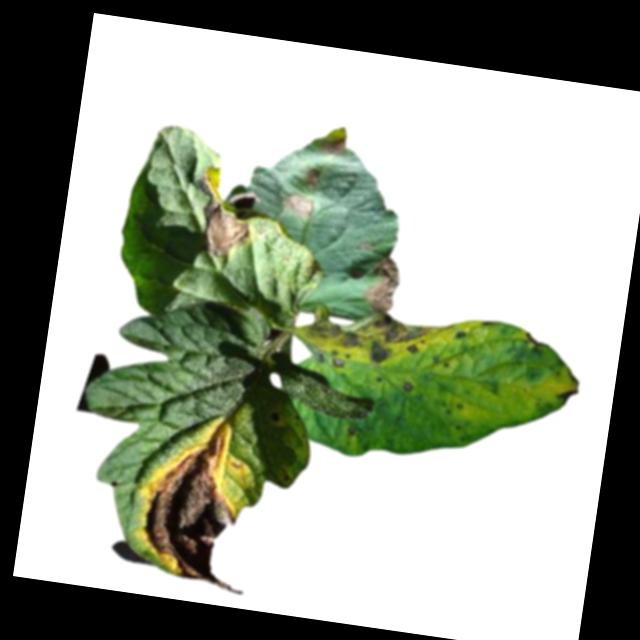Early_blight: (131, 417, 268, 596), (292, 305, 451, 387), (190, 164, 258, 263), (365, 255, 401, 314), (555, 372, 582, 406), (320, 131, 345, 158), (290, 192, 316, 217), (303, 168, 322, 190), (354, 236, 376, 253)
